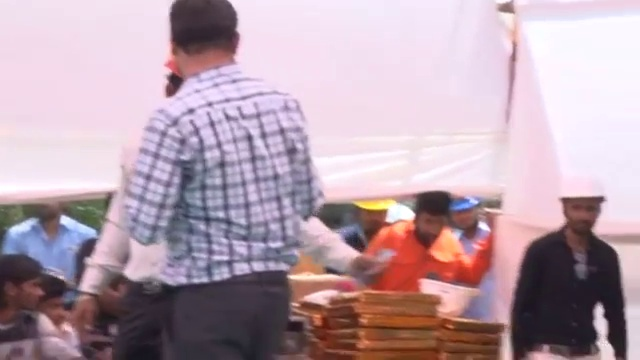helmet: (417, 276, 483, 318), (553, 168, 610, 206), (448, 196, 482, 215)
helmet_off: (163, 1, 243, 89), (0, 253, 47, 318), (38, 274, 71, 330), (353, 196, 395, 237), (413, 196, 448, 245), (32, 199, 63, 229)
helmet_on: (551, 173, 608, 243), (448, 196, 481, 232)
person: (105, 0, 325, 360), (517, 167, 628, 360), (362, 197, 483, 300), (0, 252, 101, 360), (0, 197, 100, 281), (435, 195, 494, 290)
